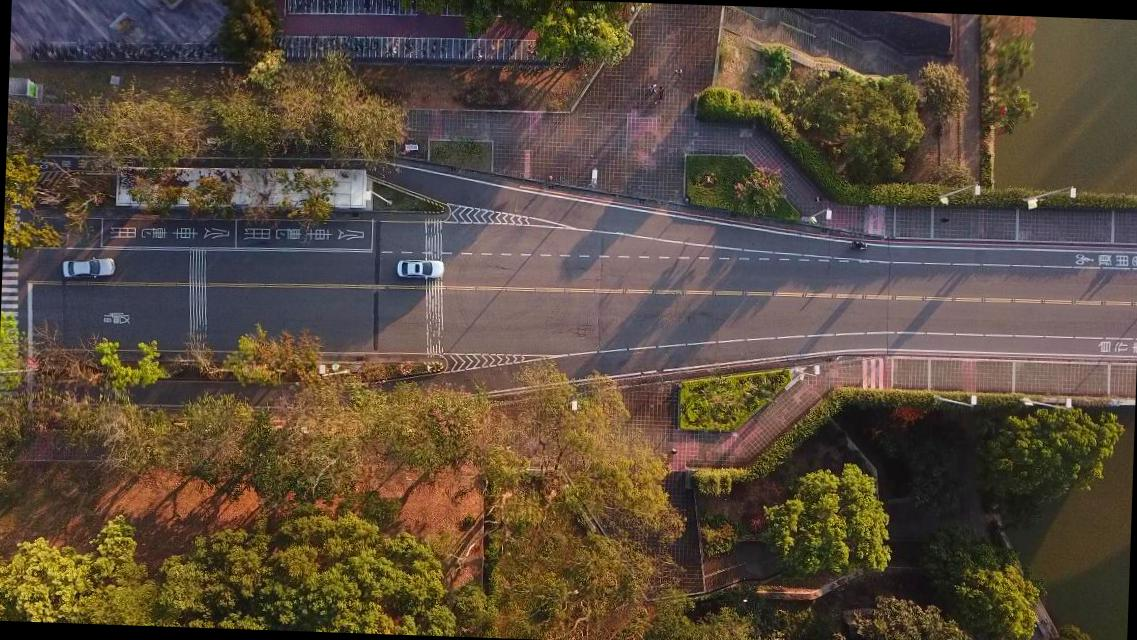vehicle: (60, 254, 115, 281), (396, 257, 444, 280)
